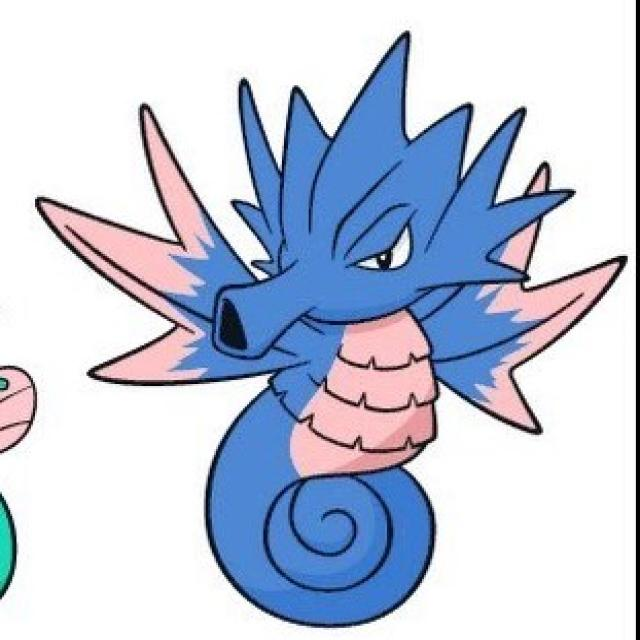Seadra: (140, 100, 548, 622)
